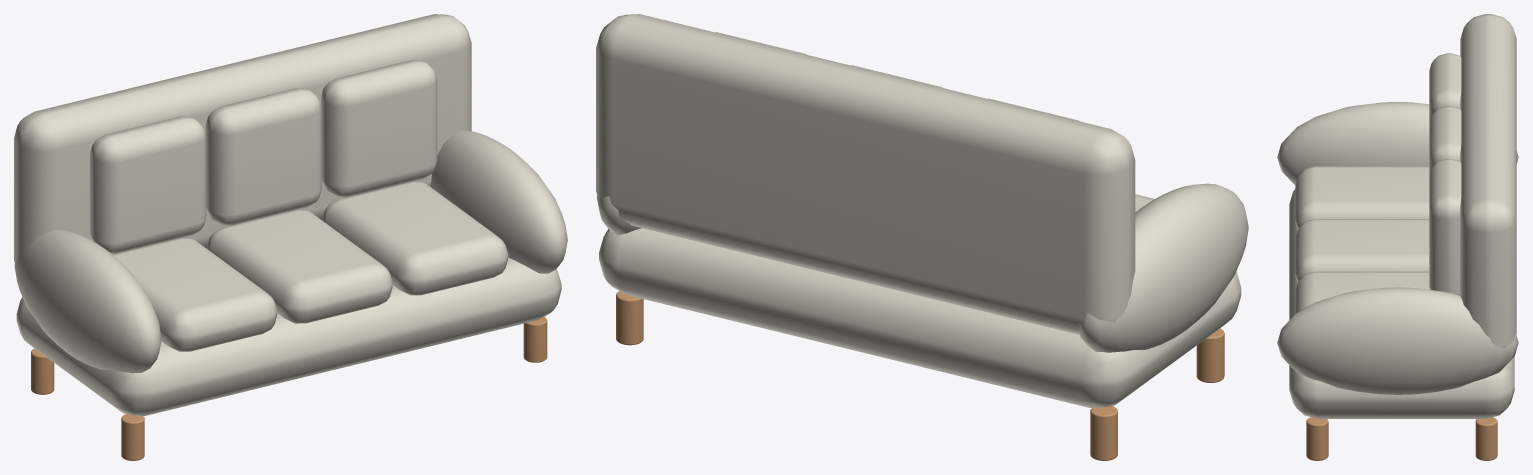
File: sofaCreamCloud.glb
The picture shows the model from 3 angles, left to right: view 1: azimuth 30°, elevation 25°; view 2: azimuth 150°, elevation 25°; view 3: azimuth 270°, elevation 25°; orthographic projection. The views are drawn at different scales.
Parts seen in each view (by area): view 1: Sofa back, Upholstered base, Cloud arm, Back cushion, Back cushion.001, Back cushion.002, Seat cushion.002, Seat cushion.001, Seat cushion, Cloud arm.001, Furniture foot, Furniture foot.002 (+1 smaller); view 2: Sofa back, Upholstered base, Cloud arm, Furniture foot.001, Furniture foot.003, Furniture foot, Cloud arm.001; view 3: Cloud arm.001, Sofa back, Cloud arm, Upholstered base, Seat cushion, Seat cushion.001, Back cushion.002, Seat cushion.002, Back cushion, Back cushion.001, Furniture foot.002, Furniture foot.003.
Boxes of the visible parts, bbox=[...] form: Sofa back: bbox=[14, 14, 471, 262]; Upholstered base: bbox=[16, 257, 561, 415]; Cloud arm: bbox=[14, 229, 161, 373]; Back cushion: bbox=[90, 116, 206, 253]; Back cushion.001: bbox=[205, 88, 321, 225]; Back cushion.002: bbox=[321, 60, 437, 197]; Seat cushion.002: bbox=[322, 181, 508, 295]; Seat cushion.001: bbox=[207, 209, 392, 323]; Seat cushion: bbox=[112, 238, 277, 351]; Cloud arm.001: bbox=[430, 130, 567, 273]; Furniture foot: bbox=[121, 414, 144, 460]; Furniture foot.002: bbox=[523, 317, 547, 362]; Sofa back: bbox=[596, 14, 1135, 334]; Upholstered base: bbox=[599, 228, 1241, 407]; Cloud arm: bbox=[1079, 183, 1248, 352]; Furniture foot.001: bbox=[1090, 406, 1117, 460]; Furniture foot.003: bbox=[616, 291, 643, 345]; Furniture foot: bbox=[1196, 328, 1224, 382]; Cloud arm.001: bbox=[596, 196, 641, 234]; Cloud arm.001: bbox=[1277, 287, 1518, 394]; Sofa back: bbox=[1460, 14, 1516, 348]; Cloud arm: bbox=[1277, 102, 1518, 185]; Upholstered base: bbox=[1289, 189, 1514, 418]; Seat cushion: bbox=[1295, 166, 1429, 230]; Seat cushion.001: bbox=[1295, 219, 1429, 282]; Back cushion.002: bbox=[1429, 159, 1461, 295]; Seat cushion.002: bbox=[1295, 271, 1430, 313]; Back cushion: bbox=[1429, 53, 1461, 122]; Back cushion.001: bbox=[1429, 106, 1461, 175]; Furniture foot.002: bbox=[1306, 417, 1328, 460]; Furniture foot.003: bbox=[1475, 417, 1497, 460].
Bounding box in the file's own units: 2.56 × 1.41 × 1.2.
